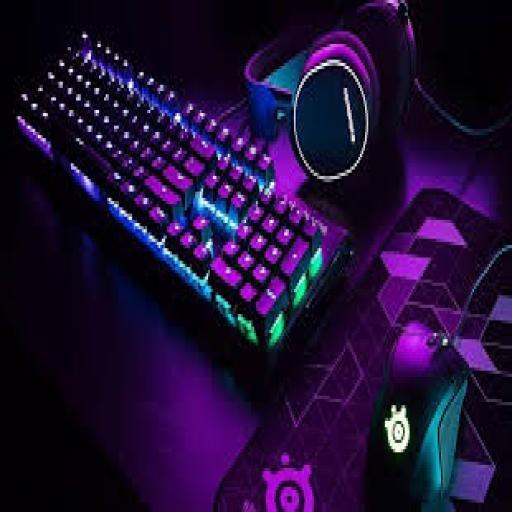KEYBOARD-2: (17, 35, 350, 364)
